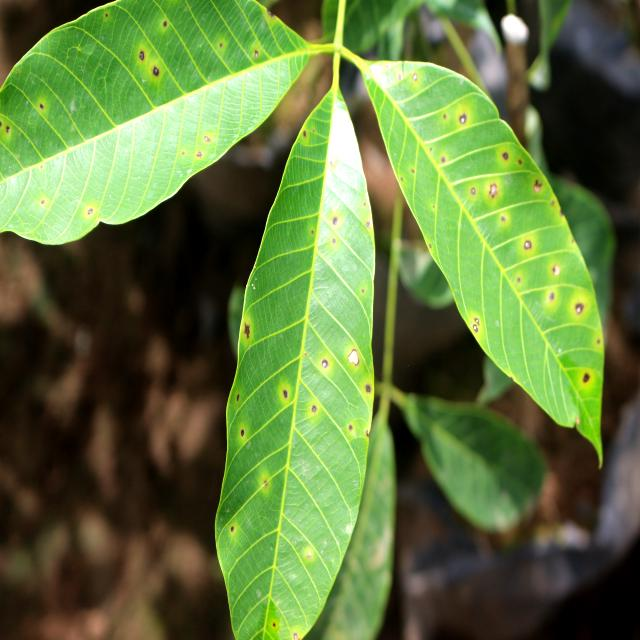Colletotrichum: (348, 349, 359, 366), (459, 114, 466, 124), (153, 66, 159, 76), (139, 50, 145, 60), (322, 359, 328, 368), (312, 405, 316, 413), (284, 390, 288, 398), (241, 429, 244, 437)
